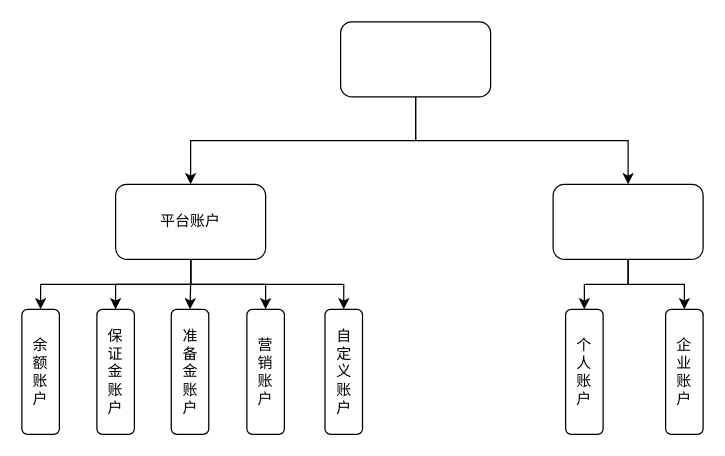
Some shapes in this 725 by 456 pixel diagram are drawn without their labels. Here are the shapes that lost their labels. From the top down, the centre of each, then its label:
At point 415,59: "汇总资金".
At point 627,221: "会员账户".
